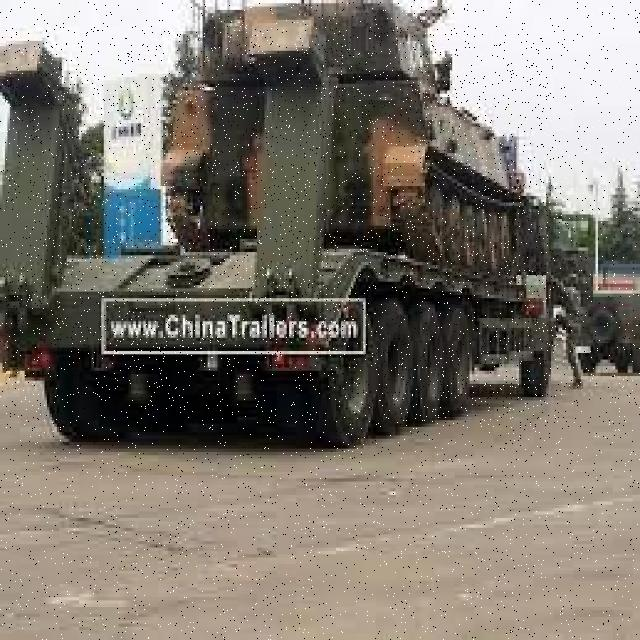MIL_MBT: (7, 28, 562, 429)
